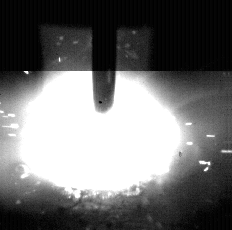arame: (93, 0, 116, 114)
poca: (19, 0, 182, 230)
